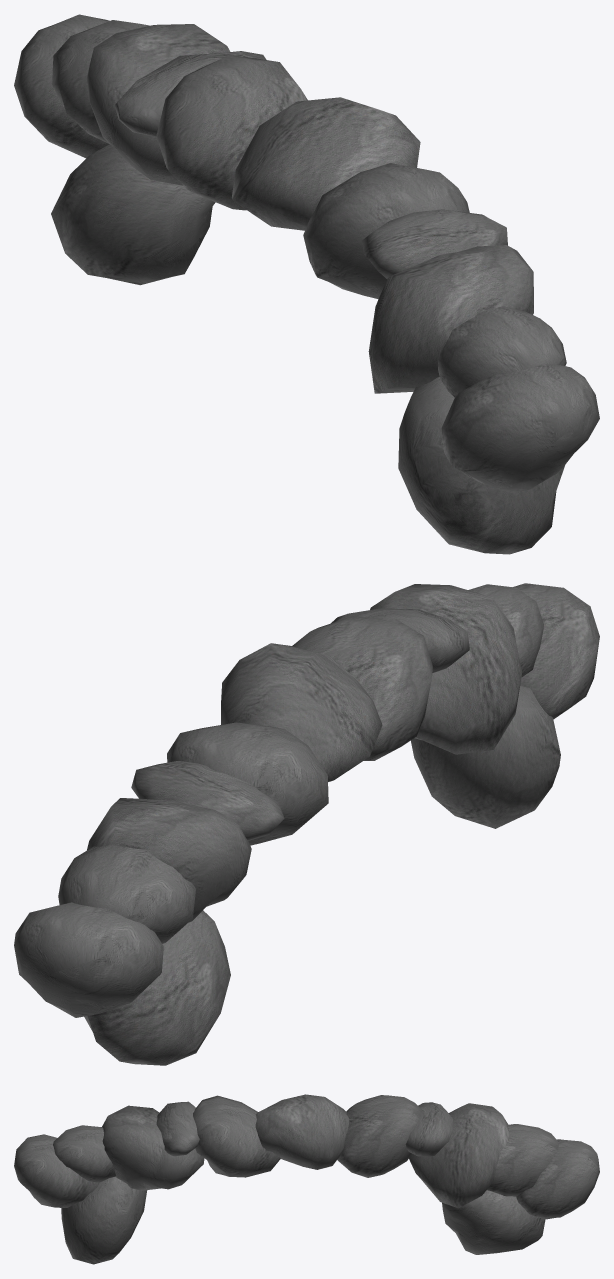
File: StoneBridge1Shape.dae
The picture shows the model from 3 angles, top to bottom: view 1: azimuth 30°, elevation 25°; view 2: azimuth 150°, elevation 25°; view 3: azimuth 270°, elevation 25°; orthographic projection. The views are drawn at different scales.
Visible parts, largest first — view 1: StoneBridge1; view 2: StoneBridge1; view 3: StoneBridge1.
Part boxes in pixels (x1,y1,x2,y2): StoneBridge1: [14, 14, 599, 554]; StoneBridge1: [14, 583, 599, 1065]; StoneBridge1: [14, 1094, 599, 1264].
Size of the model in its own units: 12.4 by 20.11 by 63.21.
